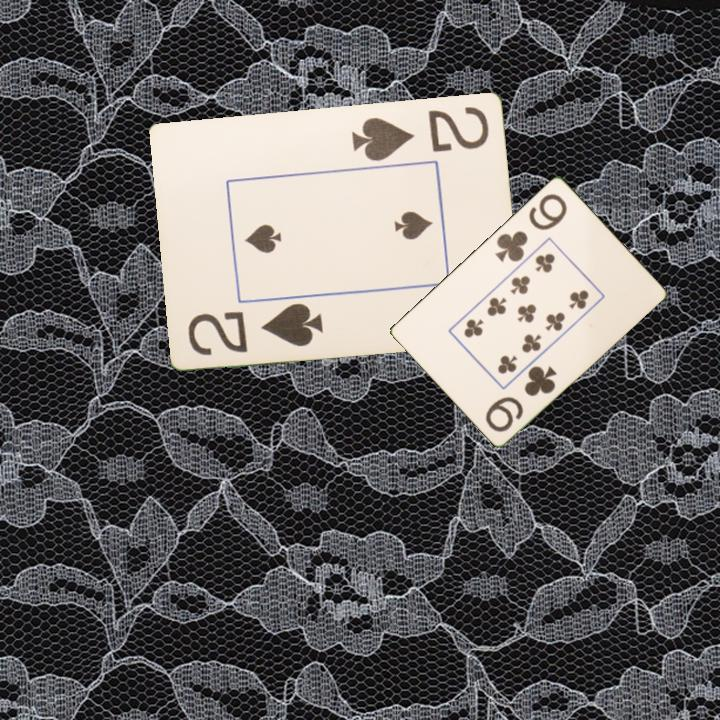2s: (349, 102, 493, 164), (184, 299, 326, 358)
9c: (491, 189, 570, 265), (481, 362, 560, 435)
